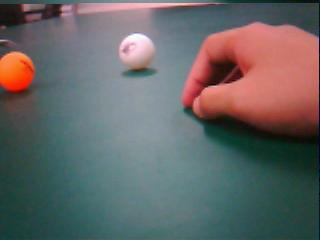oball: (0, 52, 34, 93)
